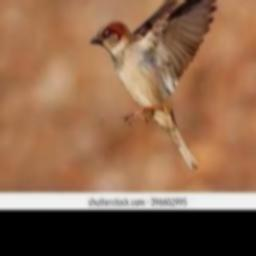Sparrow: (89, 0, 221, 170)
